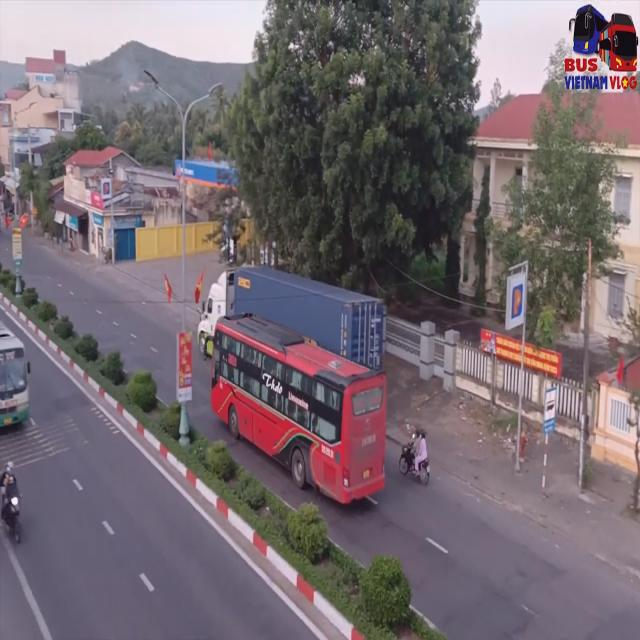bus: (196, 312, 383, 500), (1, 324, 31, 429)
motorbike: (400, 418, 432, 489), (0, 459, 24, 545)
truck: (197, 264, 390, 332)
